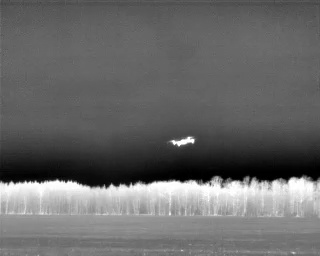DRONE: (163, 131, 201, 152)
